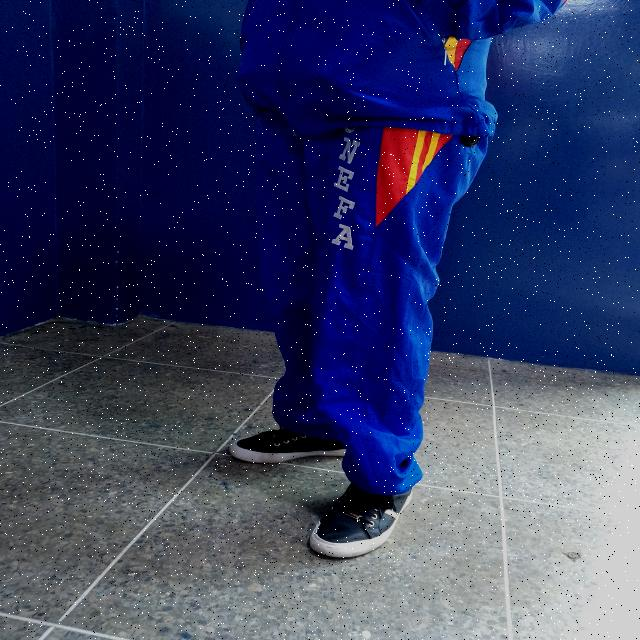chaqueta_unefa: (234, 0, 568, 137)
uniforme_superior: (255, 127, 491, 496)
